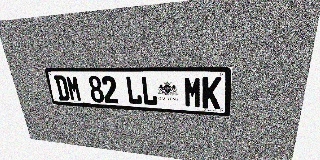2: (101, 76, 118, 104)
8: (87, 76, 105, 103)
D: (53, 75, 70, 101)
K: (202, 77, 222, 109)
L: (140, 76, 158, 106), (125, 76, 142, 105)
M: (184, 77, 202, 108), (65, 75, 82, 102)
